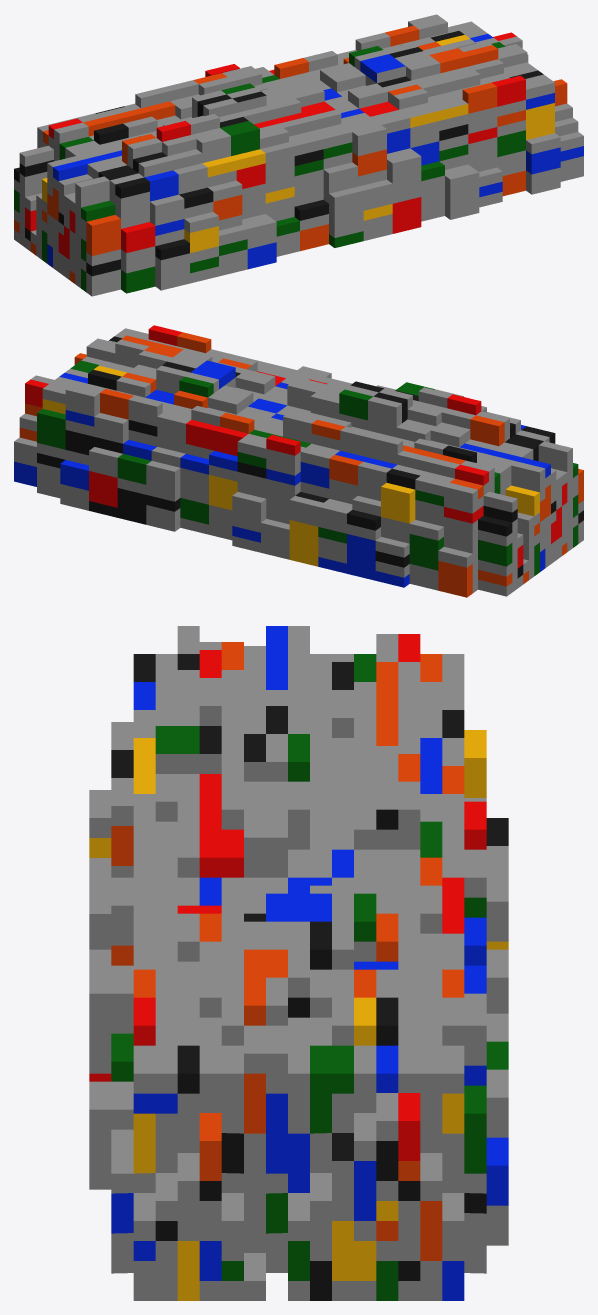
File: SM_CargoStack1.FBX
The picture shows the model from 3 angles, top to bottom: view 1: azimuth 30°, elevation 25°; view 2: azimuth 150°, elevation 25°; view 3: azimuth 270°, elevation 25°; orthographic projection. The views are drawn at different scales.
Visible parts, largest first — view 1: Box001; view 2: Box001; view 3: Box001.
Boxes of the visible parts, x1,y1,x2,y2 form: Box001: (14,14,583,296); Box001: (14,325,583,597); Box001: (89,626,508,1300).
Size of the model in its own units: 1530 by 390 by 570.
